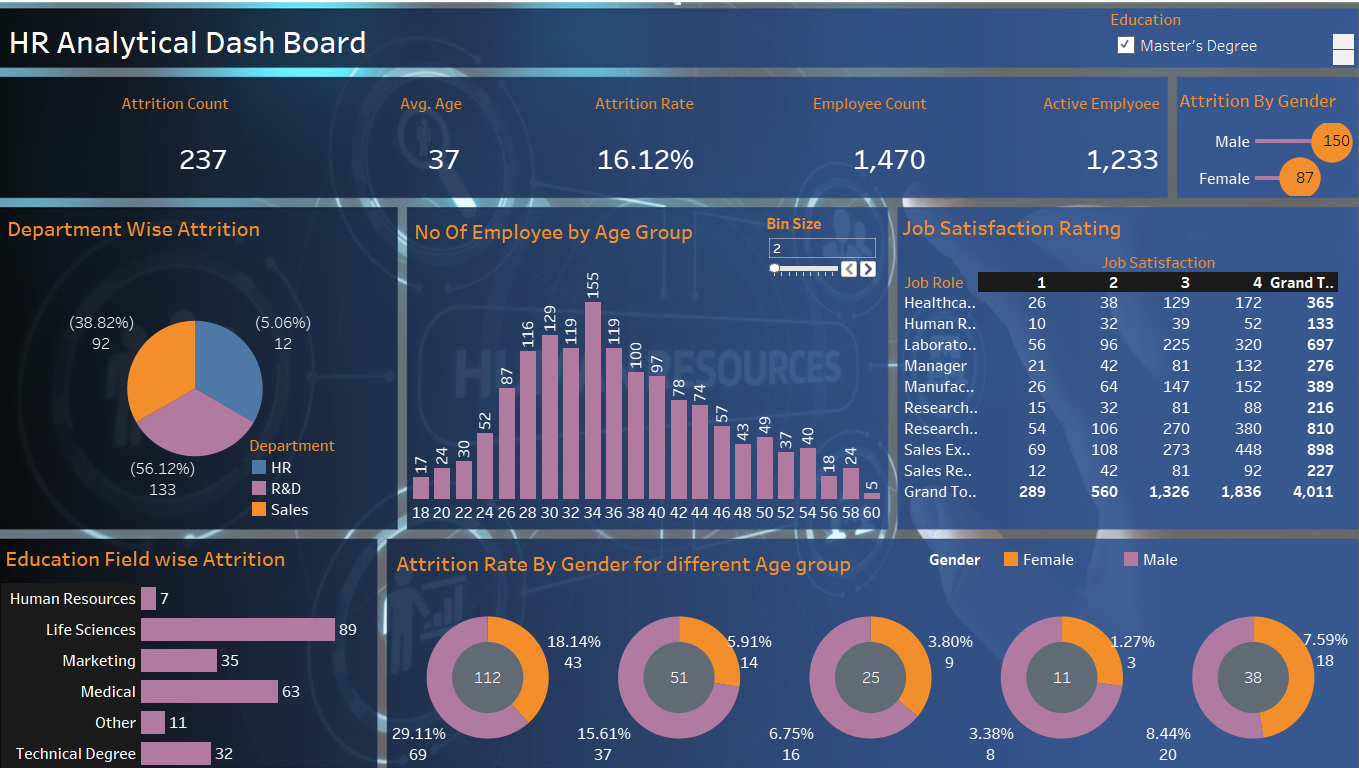

The page's visual inventory and layout, read from the dashboard file:
{"tool":"tableau","page":{"name":"Dashboard 1","canvas":[1000,1000],"units":"permille","ordinal":0},"visuals":[{"type":"image","param":"C:/Users/DELL/Pictures/Screenshots/Screenshot (35).png","box":[5.6,10,988.7,980]},{"type":"filter","title":"Education Field wise Attrition","param":"[federated.03jhcwv0rxo6tz180pe3t1pfs31b].[none:Education:nk]","box":[804.9,23.7,171.8,69.8]},{"type":"text","box":[26.8,37.4,938,51.1]},{"type":"worksheet","title":"Sheet 2","mark":"Automatic","box":[23.2,113.5,819.7,138.4]},{"type":"worksheet","title":"Sheet 1","mark":"Automatic","rows":["Gender"],"cols":["Calculation_561542628352937984","Calculation_561542628352937984"],"box":[850.7,117.2,128.2,139.7]},{"type":"worksheet","title":"Job Satisfaction Rating","mark":"Automatic","rows":["Job Role"],"cols":["Job Satisfaction"],"box":[655.6,273.1,323.2,396.5]},{"type":"worksheet","title":"Department wise Attrition","mark":"Pie","box":[25.4,274.3,270.4,391.5]},{"type":"worksheet","title":"No of Employee by age group","mark":"Automatic","rows":["Employee Count"],"cols":["Age (bin)"],"box":[312,278.1,333.1,387.8]},{"type":"parameter","param":"[Parameters].[Parameter 1]","box":[562.7,278.1,79.6,91]},{"type":"legend","title":"Department wise Attrition","param":"[federated.03jhcwv0rxo6tz180pe3t1pfs31b].[none:Department:nk]","box":[198.6,554.9,98.6,106]},{"type":"worksheet","title":"Education Field wise Attrition","mark":"Automatic","rows":["Education Field"],"cols":["Calculation_561542628352937984"],"box":[23.9,685.8,261.3,285.5]},{"type":"worksheet","title":"Sheet 7","mark":"Pie","rows":["Calculation_638666772261548033","Calculation_638666772261605379"],"cols":["CF_age band"],"box":[299.3,692,673.9,276.8]},{"type":"legend","title":"Sheet 7","param":"[federated.03jhcwv0rxo6tz180pe3t1pfs31b].[none:Gender:nk]","box":[677.5,697,250.7,44.9]}]}

Visuals, with their boxes on the dashboard's canvas, which has no fixed pixel size, in thousandths of its width and height (x1, y1, x2, y2). These are canvas units, not pixel positions in the 1359x768 screenshot, which may show the page scaled, cropped or inside an application window:
image: bbox(6, 10, 994, 990)
"Education Field wise Attrition" filter: bbox(805, 24, 977, 94)
text: bbox(27, 37, 965, 88)
"Sheet 2" worksheet: bbox(23, 114, 843, 252)
"Sheet 1" worksheet: bbox(851, 117, 979, 257)
"Job Satisfaction Rating" worksheet: bbox(656, 273, 979, 670)
"Department wise Attrition" worksheet (Pie marks): bbox(25, 274, 296, 666)
"No of Employee by age group" worksheet: bbox(312, 278, 645, 666)
parameter: bbox(563, 278, 642, 369)
"Department wise Attrition" legend: bbox(199, 555, 297, 661)
"Education Field wise Attrition" worksheet: bbox(24, 686, 285, 971)
"Sheet 7" worksheet (Pie marks): bbox(299, 692, 973, 969)
"Sheet 7" legend: bbox(678, 697, 928, 742)
